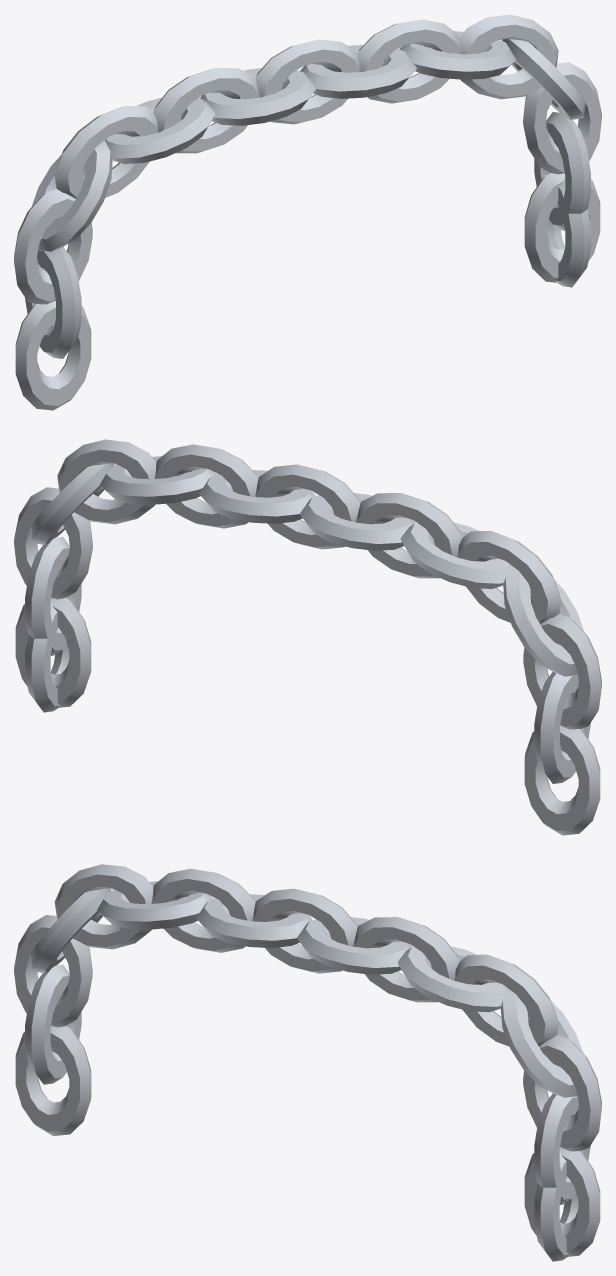
Rendered from chain_band.fbx.
The picture shows the model from 3 angles, top to bottom: view 1: azimuth 30°, elevation 25°; view 2: azimuth 150°, elevation 25°; view 3: azimuth 330°, elevation 25°; orthographic projection.
Visible parts, largest first — view 1: chain_band; view 2: chain_band; view 3: chain_band.
Part boxes in pixels (<box>): chain_band: <box>14,14,601,410</box>; chain_band: <box>14,439,601,835</box>; chain_band: <box>14,864,601,1261</box>.
Bounding box in the file's own units: 1.11 × 0.5519 × 0.1423.
